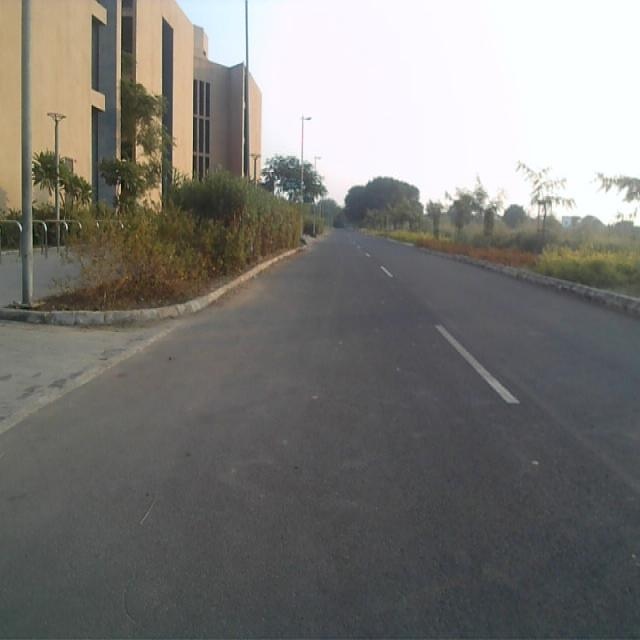lane: (0, 238, 640, 640)
